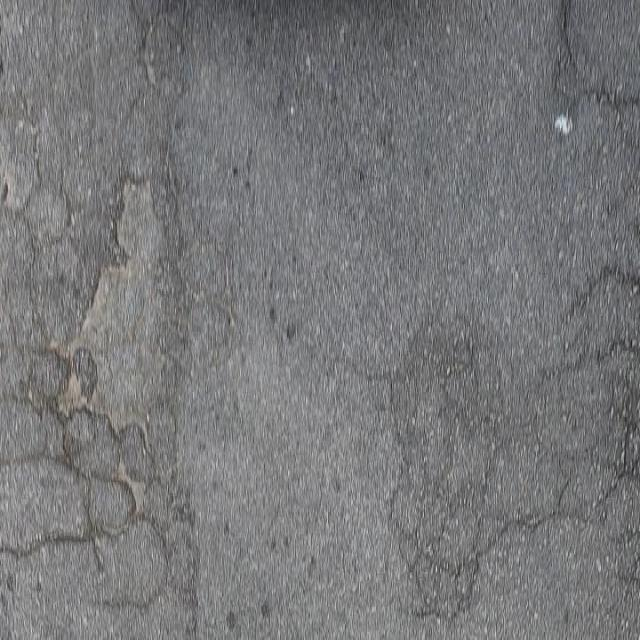cracks: (320, 277, 640, 640)
potholes: (4, 148, 217, 640)
